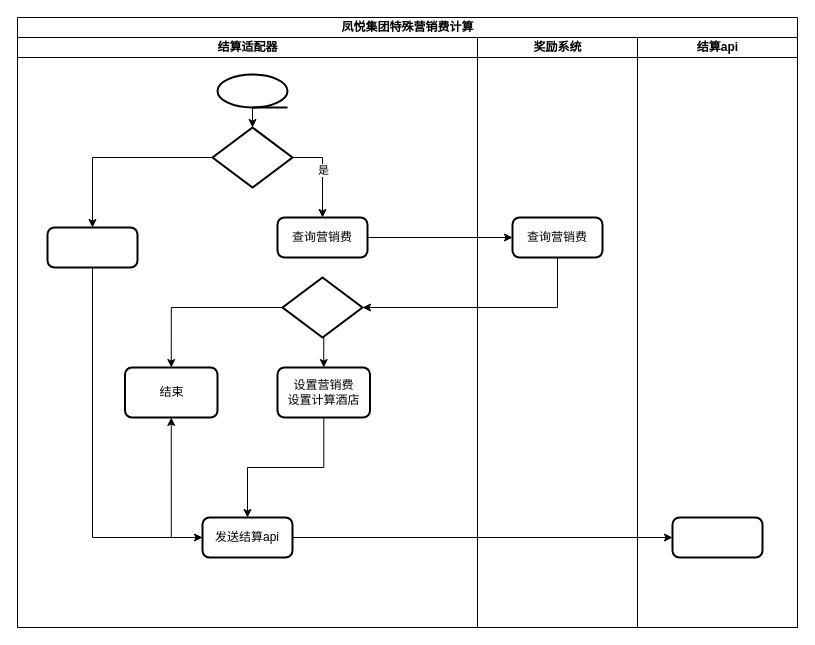
The diagram is 815 pixels wide and 645 high, and some of its shapes have lost their labels. The centre of each missing label's shape, as x and y in pixels:
"j集团营销费>0" goes at point (322, 307).
"是否营销费结算" goes at point (252, 157).
"正常结算" goes at point (92, 247).
"结算" goes at point (717, 537).
"结算MQ" goes at point (252, 90).
